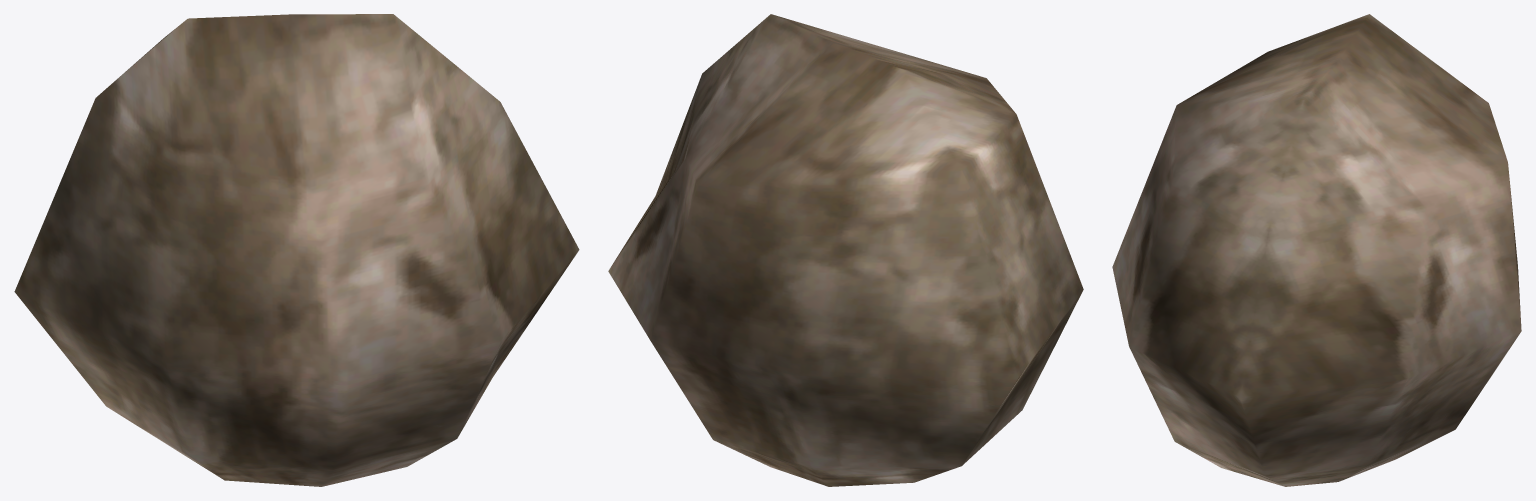
The model's file is OVERHILL_A_01_ROCK52.fbx.
The picture shows the model from 3 angles, left to right: view 1: azimuth 30°, elevation 25°; view 2: azimuth 150°, elevation 25°; view 3: azimuth 270°, elevation 25°; orthographic projection. The views are drawn at different scales.
Visible parts, largest first — view 1: OVERHILL_A_01_ROCK52; view 2: OVERHILL_A_01_ROCK52; view 3: OVERHILL_A_01_ROCK52.
Part boxes in pixels (x1,y1,x2,y2): OVERHILL_A_01_ROCK52: [14, 14, 579, 486]; OVERHILL_A_01_ROCK52: [608, 14, 1083, 486]; OVERHILL_A_01_ROCK52: [1112, 14, 1521, 486].
Bounding box in the file's own units: 13728 × 11903 × 11280.
1 material, 1 textured.
